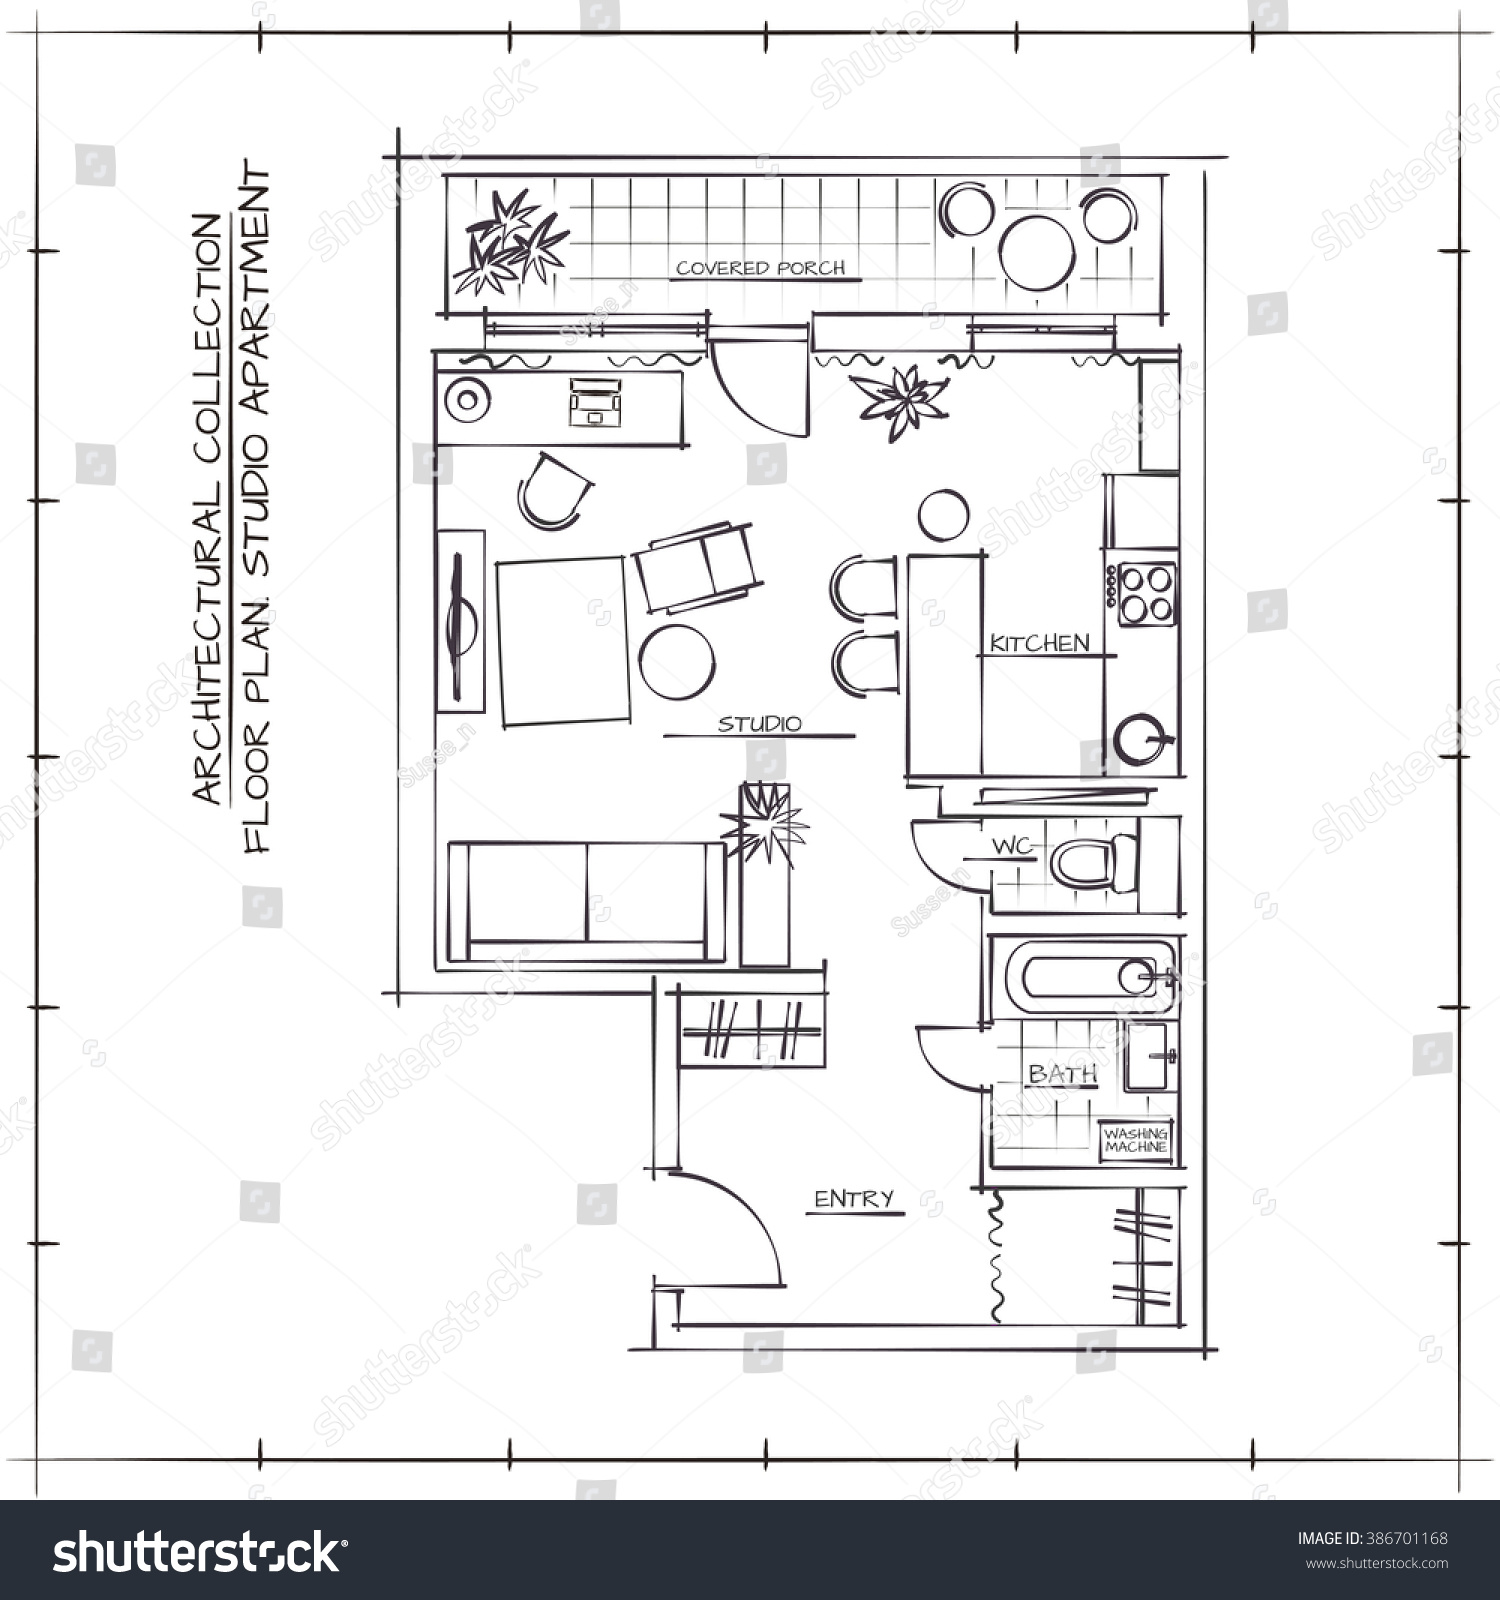room: (976, 909, 1210, 1194), (906, 775, 1203, 935)
